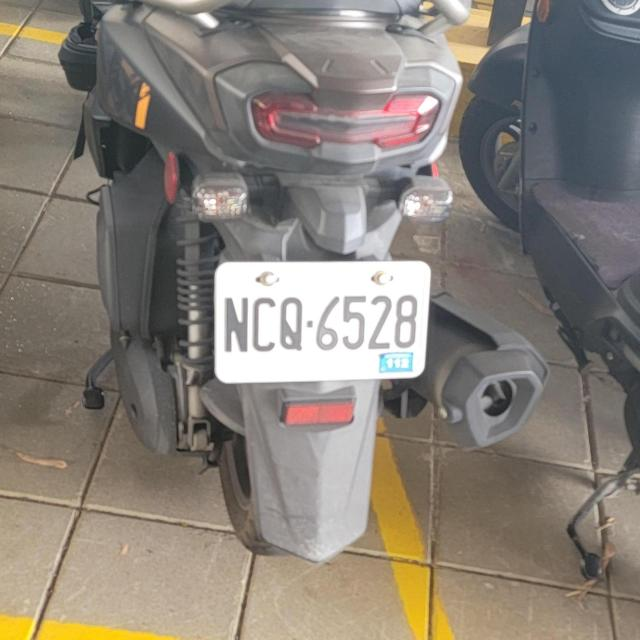W: (209, 251, 433, 387)
